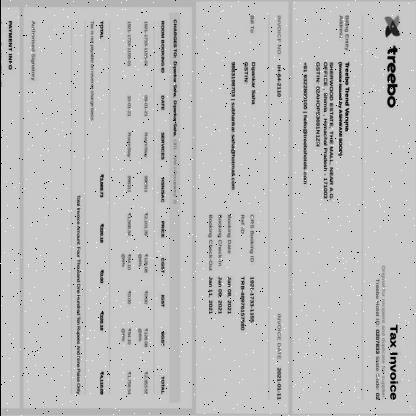Paragraph: (300, 14, 350, 202), (204, 209, 256, 336), (229, 15, 255, 192), (374, 264, 398, 403), (74, 193, 80, 395), (171, 19, 177, 205), (88, 20, 94, 122), (275, 312, 280, 402), (275, 14, 280, 98), (29, 20, 35, 82), (6, 20, 12, 70)
Table: (96, 13, 166, 402)
